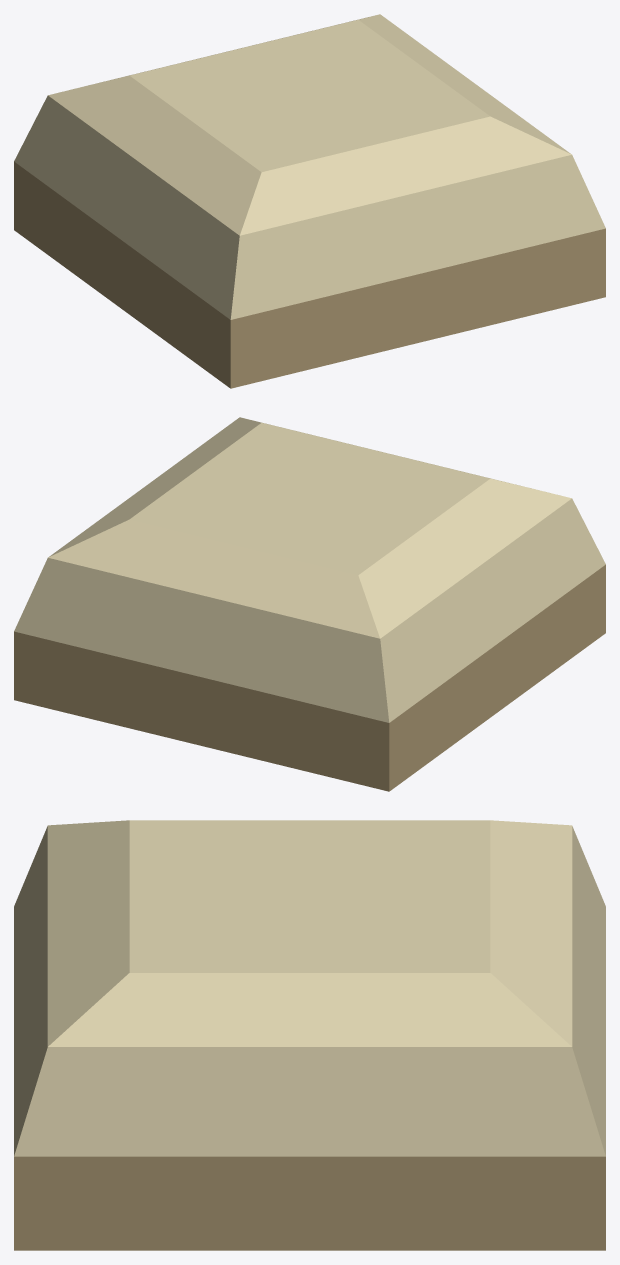
Rendered from StreetCordSmall_01.glb.
The picture shows the model from 3 angles, top to bottom: view 1: azimuth 30°, elevation 25°; view 2: azimuth 150°, elevation 25°; view 3: azimuth 270°, elevation 25°; orthographic projection. The views are drawn at different scales.
Visible parts, largest first — view 1: StreetCordSmall01; view 2: StreetCordSmall01; view 3: StreetCordSmall01.
Boxes of the visible parts, x1,y1,x2,y2 form: StreetCordSmall01: (14,14,605,388); StreetCordSmall01: (14,417,605,791); StreetCordSmall01: (14,820,605,1250).
Size of what is drawn, in the model's own units: 0.3844 by 0.1641 by 0.3844.
1 material, 1 textured.
